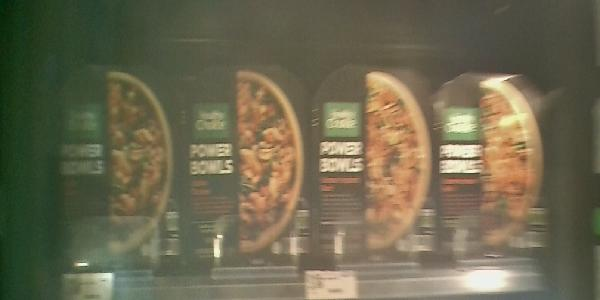pizza1: (53, 56, 184, 267), (310, 59, 436, 268), (184, 59, 310, 266), (433, 70, 547, 256)
